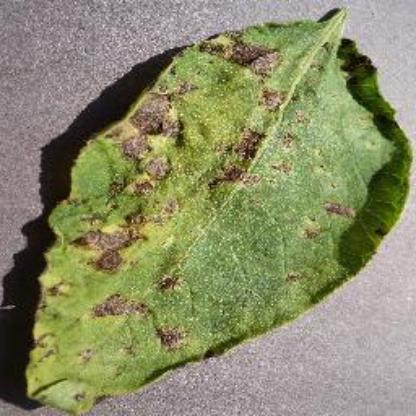Early-Blight: (25, 4, 412, 412)
